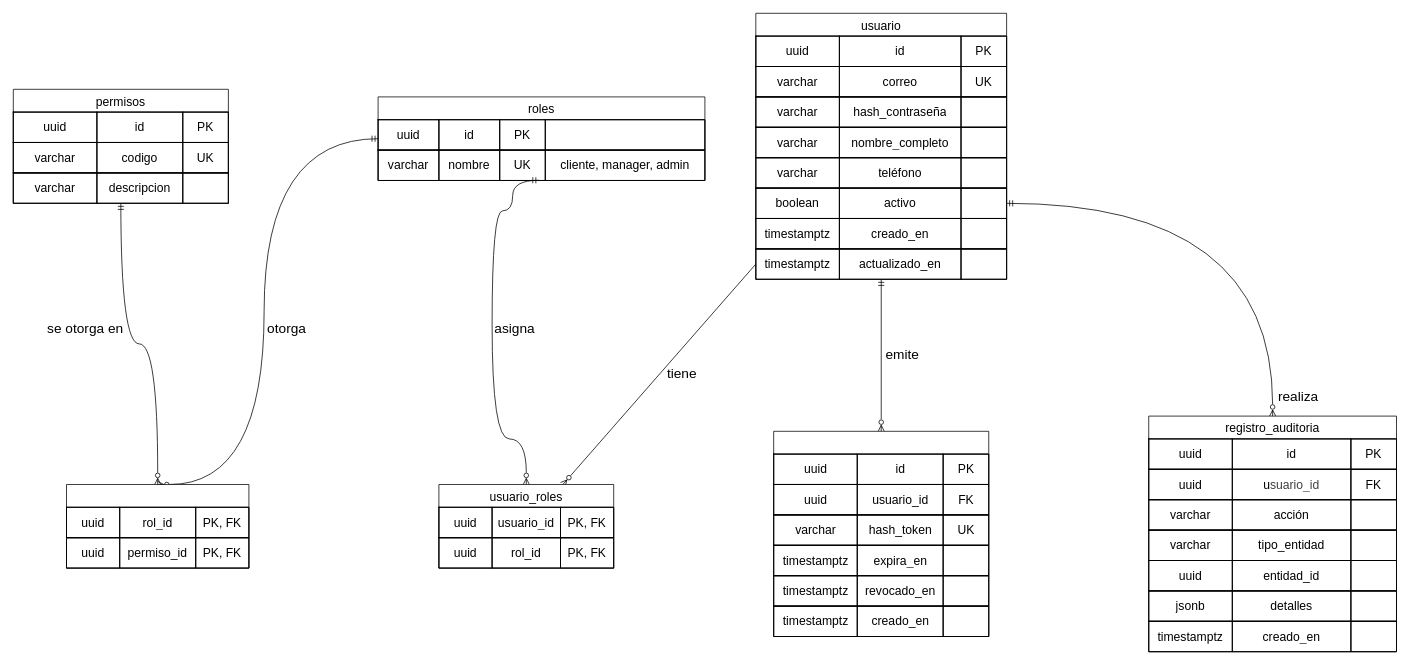
This 1410x665 diagram has some shape labels left out. The shapes that lost their labels are listed below. From the top down, each one's box as (x1, y1, x2, y2) in pixels, then its label:
(66, 484, 249, 568): rol_permisos
(773, 431, 989, 636): tokens_refresco
